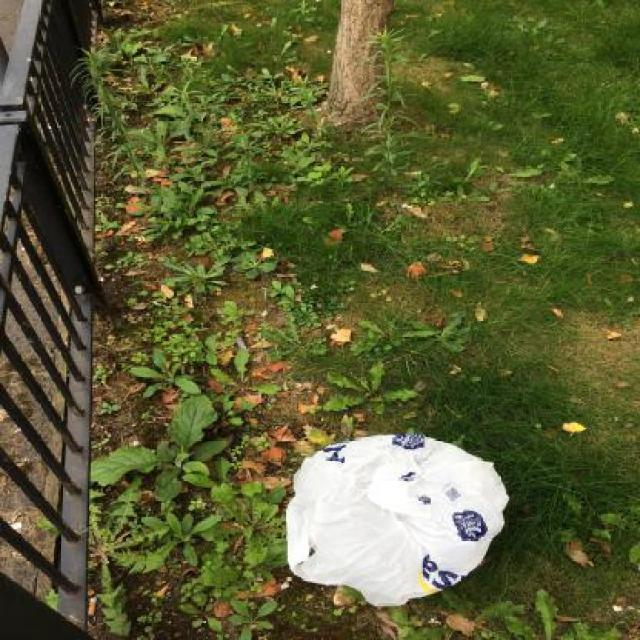Garbage: (286, 434, 509, 607)
